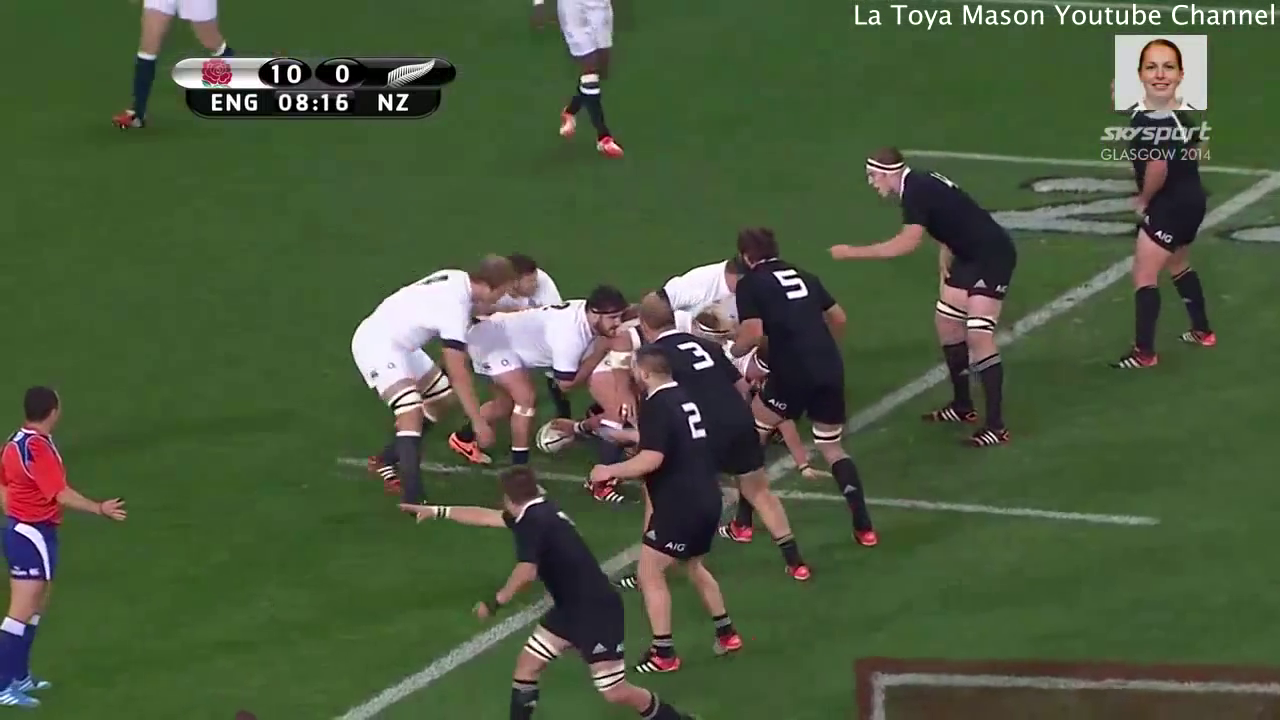ball: (525, 409, 582, 462)
player: (393, 463, 690, 720), (827, 136, 1024, 458), (725, 222, 892, 565), (1, 364, 133, 720), (351, 247, 517, 518), (614, 347, 740, 670), (448, 280, 631, 464), (1093, 164, 1233, 373), (633, 289, 753, 470), (517, 1, 633, 170)
